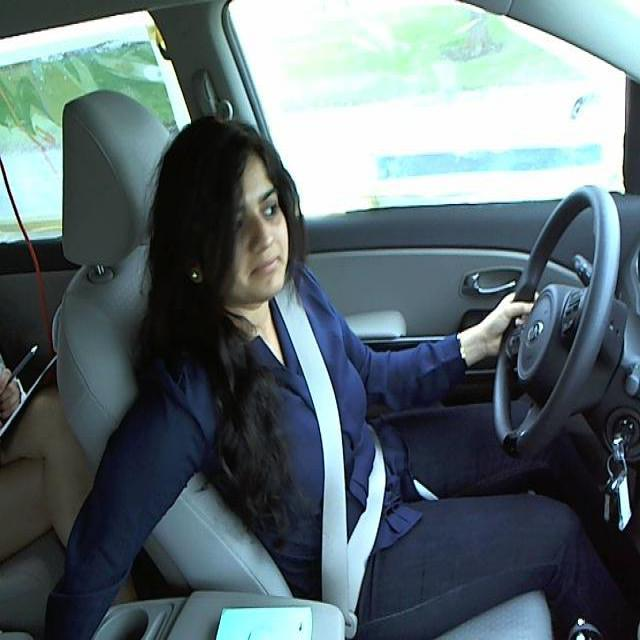seatbelt: (278, 301, 392, 596)
